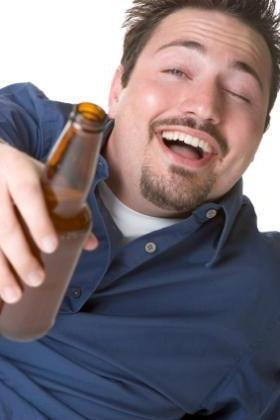Drunk: (148, 13, 262, 196)
